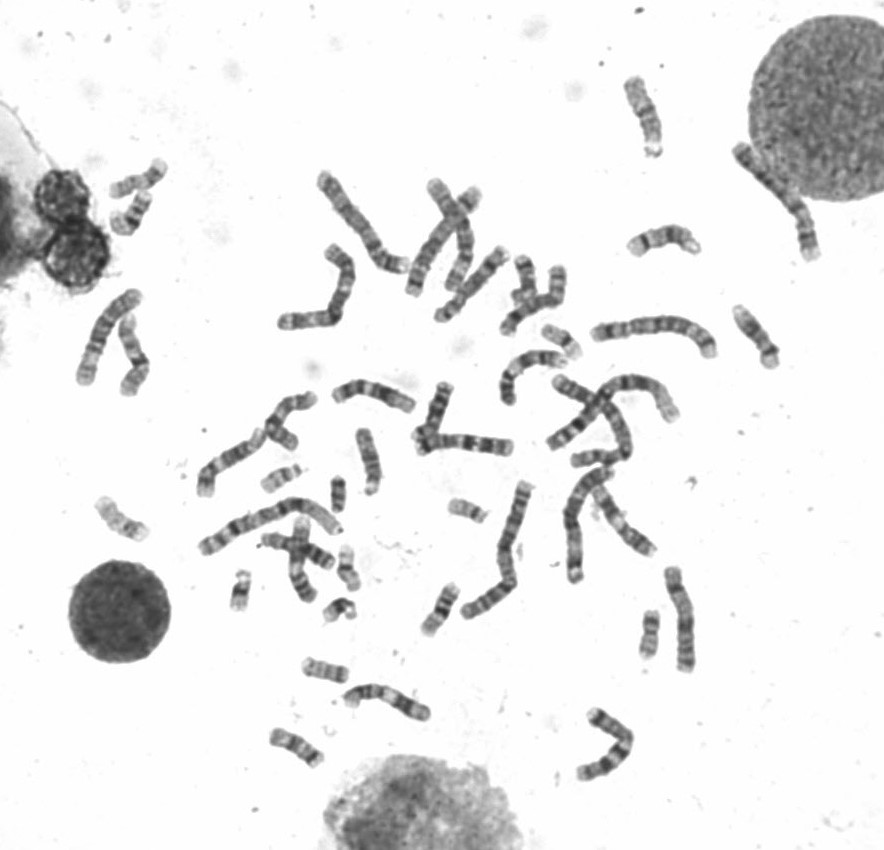chromosomes: (730, 137, 824, 269), (389, 184, 488, 308), (540, 371, 682, 454), (457, 481, 540, 621), (310, 165, 413, 276), (54, 286, 153, 398), (197, 498, 347, 563), (271, 243, 358, 342), (418, 245, 513, 329), (552, 372, 634, 469), (561, 460, 619, 589), (590, 316, 729, 365), (588, 474, 662, 561), (426, 171, 477, 292), (497, 261, 573, 341), (194, 422, 268, 497), (574, 705, 637, 790), (660, 564, 706, 675), (497, 348, 568, 416), (616, 71, 667, 162), (728, 299, 786, 375), (342, 684, 437, 729), (113, 312, 153, 409), (620, 221, 703, 265), (265, 388, 321, 453), (256, 530, 337, 573), (285, 513, 319, 614), (329, 377, 416, 416), (258, 723, 330, 769), (103, 154, 173, 201), (410, 378, 458, 442), (412, 432, 525, 459), (95, 496, 154, 547), (415, 578, 464, 636), (108, 187, 154, 242), (351, 427, 384, 497), (502, 253, 543, 309), (296, 653, 353, 685), (336, 543, 370, 596), (541, 325, 587, 363), (256, 462, 306, 496), (223, 565, 255, 612), (635, 608, 661, 664), (444, 496, 489, 528), (318, 594, 360, 621), (328, 472, 351, 517)
